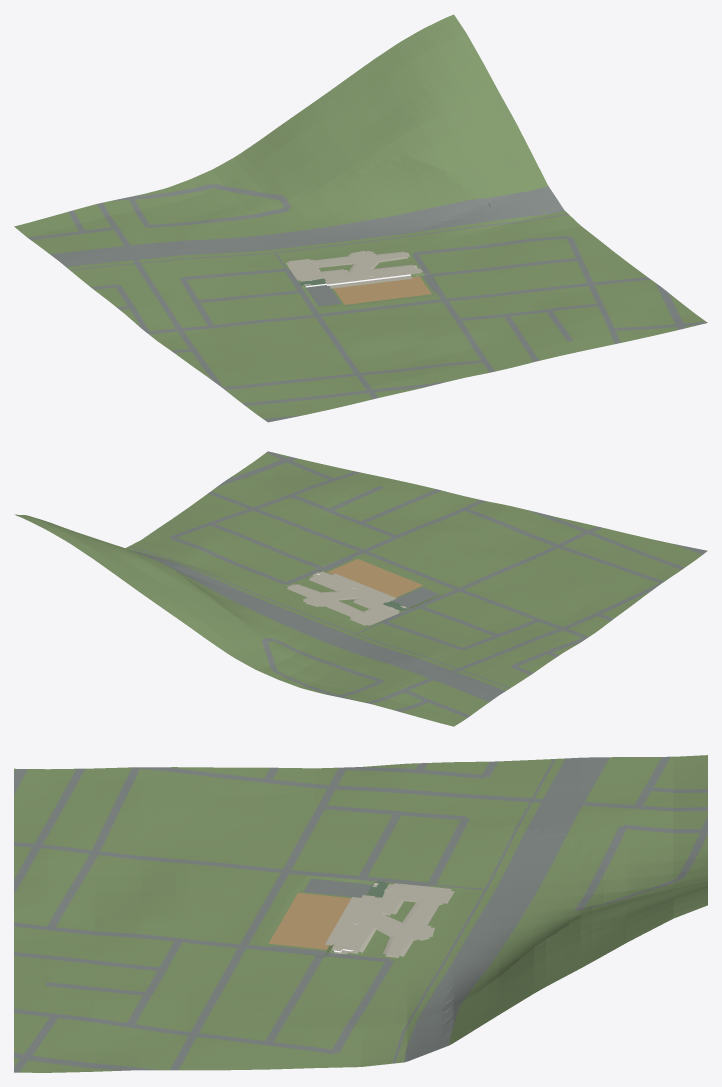
3 views of the same model, one above another, from view 1: azimuth 30°, elevation 25°; view 2: azimuth 150°, elevation 25°; view 3: azimuth 270°, elevation 25° (orthographic). The views are drawn at different scales.
Parts seen in each view (by area): view 1: surface_ground, surface_osm-road-34550685, surface_osm-road-553783108, surface_osm-road-174832605, surface_south-earth-field, surface_under-main, surface_osm-road-663093292, surface_osm-road-471693745, surface_osm-road-413688432, surface_osm-road-174838547, surface_osm-road-663093297, surface_osm-road-471693737 (+1 smaller); view 2: surface_ground, surface_osm-road-34550685, surface_osm-road-553783108, surface_south-earth-field, surface_osm-road-174832605, surface_under-main, surface_osm-road-663093292, surface_osm-road-471693745, surface_osm-road-413688432, surface_apron-main, surface_osm-road-471693737, surface_osm-road-663093291 (+7 smaller); view 3: surface_ground, surface_osm-road-34550685, surface_osm-road-553783108, surface_south-earth-field, surface_osm-road-174832605, surface_under-main, surface_osm-road-663093292, surface_osm-road-413688432, surface_osm-road-471693745, surface_osm-road-663093297, surface_osm-road-663093291, surface_osm-road-471693737 (+18 smaller).
Part boxes in pixels (x1,y1,x2,y2): surface_ground: (14,14,705,422); surface_osm-road-34550685: (50,186,557,261); surface_osm-road-553783108: (60,200,564,266); surface_osm-road-174832605: (146,277,650,334); surface_south-earth-field: (333,276,431,304); surface_under-main: (312,252,415,279); surface_osm-road-663093292: (180,268,319,325); surface_osm-road-471693745: (224,360,485,389); surface_osm-road-413688432: (135,263,224,389); surface_osm-road-174838547: (130,183,291,209); surface_osm-road-663093297: (128,198,288,227); surface_osm-road-471693737: (242,381,448,405); surface_ground: (14,453,707,726); surface_osm-road-34550685: (149,557,499,701); surface_osm-road-553783108: (128,549,505,694); surface_south-earth-field: (327,559,422,597); surface_osm-road-174832605: (208,491,588,638); surface_under-main: (289,575,383,616); surface_osm-road-663093292: (381,590,538,649); surface_osm-road-471693745: (463,508,663,582); surface_osm-road-413688432: (457,581,664,669); surface_apron-main: (287,576,384,617); surface_osm-road-471693737: (527,510,684,569); surface_osm-road-663093291: (460,526,602,589); surface_ground: (14,755,707,1072); surface_osm-road-34550685: (423,757,609,1055); surface_osm-road-553783108: (404,757,582,1062); surface_south-earth-field: (268,892,351,949); surface_osm-road-174832605: (170,767,347,1070); surface_under-main: (343,897,435,955); surface_osm-road-663093292: (289,805,469,886); surface_osm-road-413688432: (129,767,532,802); surface_osm-road-471693745: (46,767,139,928); surface_osm-road-663093297: (574,824,705,910); surface_osm-road-663093291: (14,842,282,872); surface_osm-road-471693737: (14,768,84,894).
Size of the model in its own units: 480 by 128 by 480.
5 materials, 5 textured.
